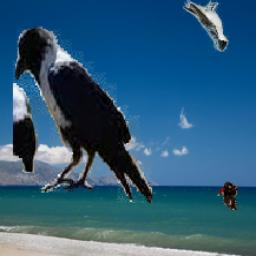Crow: (13, 28, 152, 209)
Swallow: (184, 1, 230, 53)
Woodpecker: (218, 182, 238, 211)
